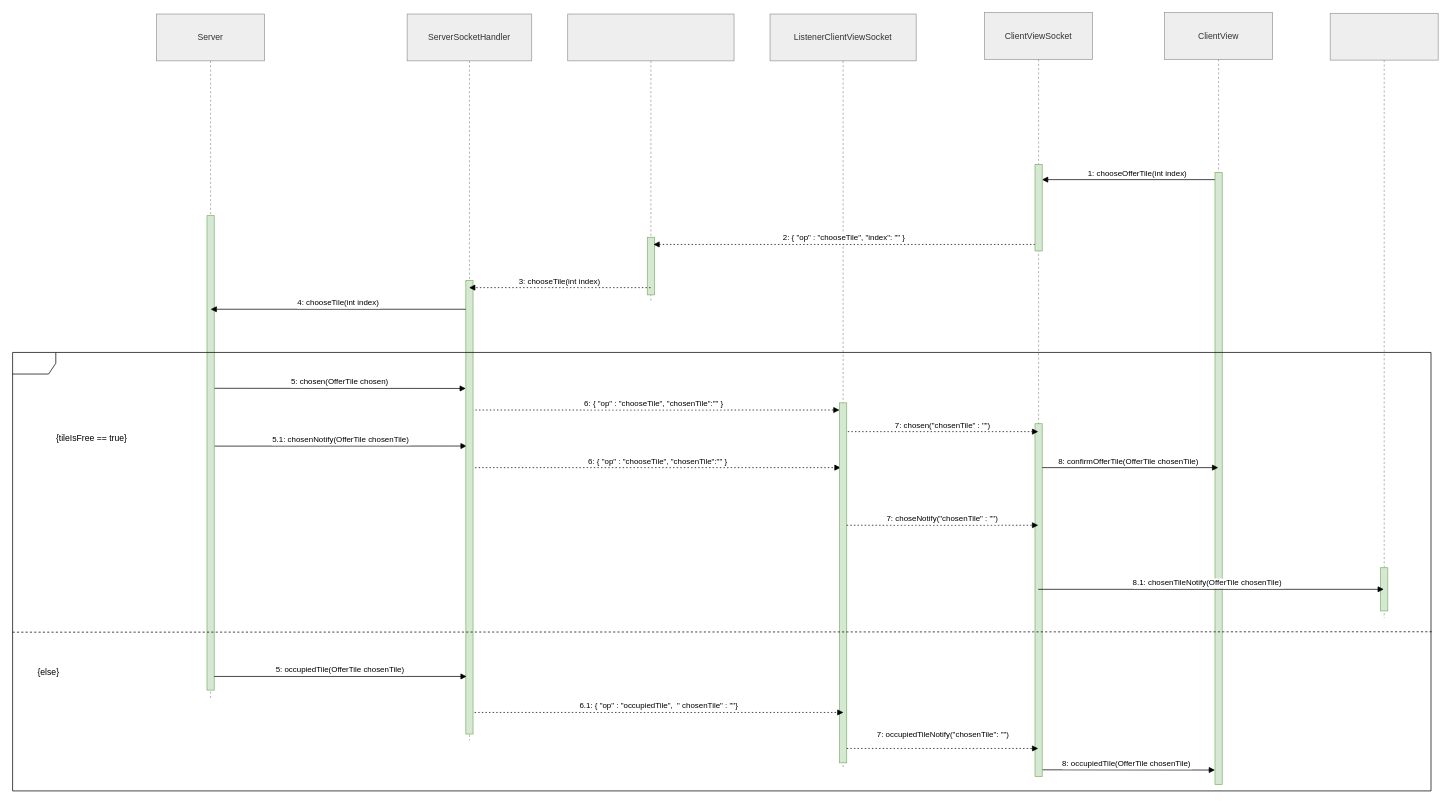
Image size: 1451x804. Some labels were removed from this diagram. Here are the shapes that lost their labels. From the top down, the box of each, then its label:
(567, 13, 734, 301): ListenerServerSocketHandler
(1329, 13, 1438, 618): ClientBroadcast
(12, 352, 1431, 791): opt
